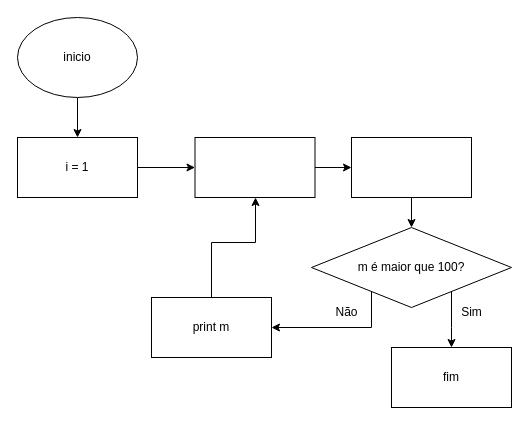
The diagram is 529 pixels wide and 425 high, and some of its shapes have lost their labels. Here are the shapes that lost their labels. From the top down, the centre of each, then its label:
At pixel 254 167: "m = i * 3".
At pixel 411 167: "i++".
